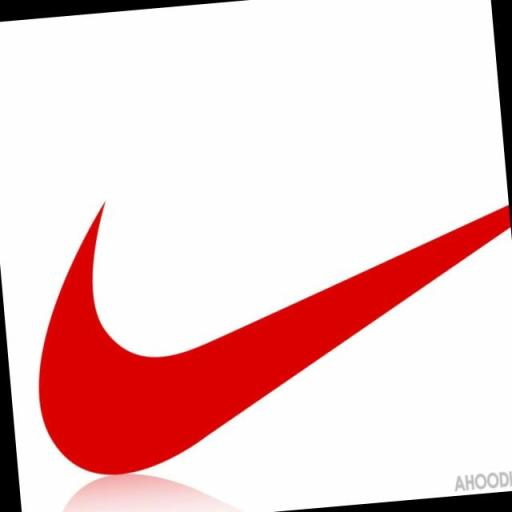Nike: (25, 169, 512, 480)
